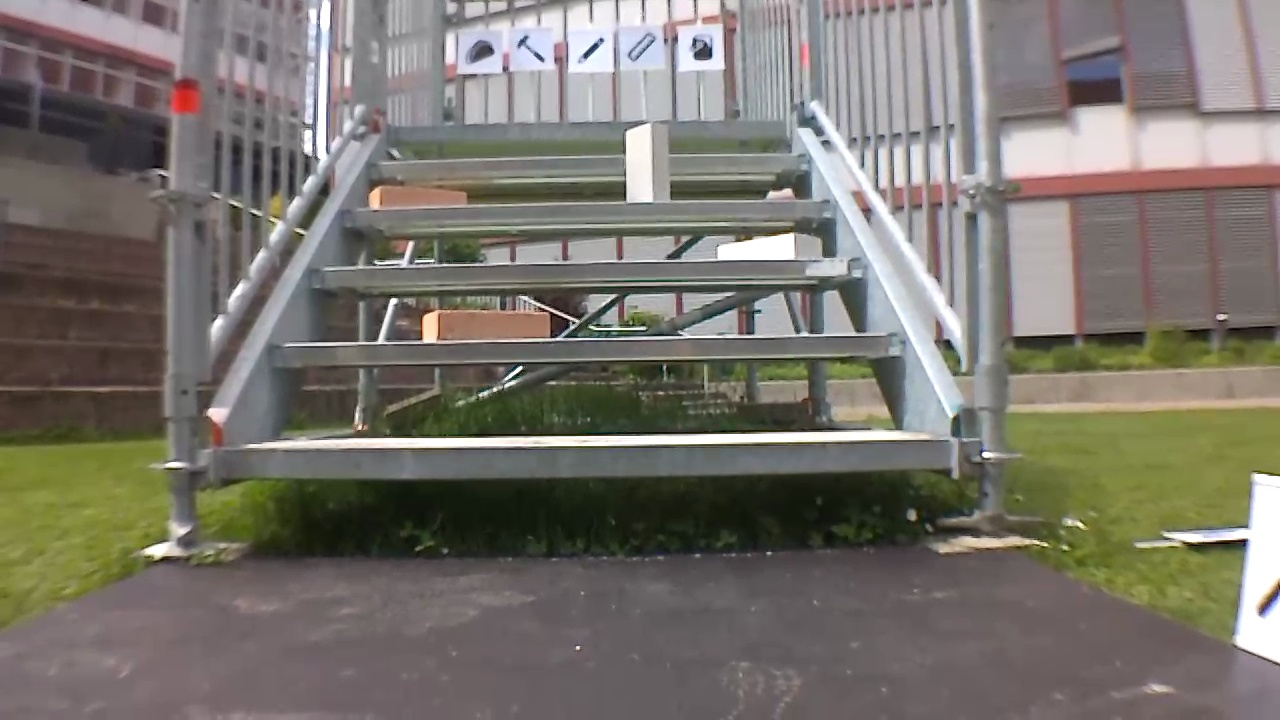brick: (421, 311, 549, 338), (626, 121, 667, 202), (717, 234, 821, 259), (369, 186, 465, 207)
bucket: (686, 30, 719, 63)
edge: (218, 436, 953, 479), (270, 335, 902, 363), (308, 257, 869, 284), (342, 198, 837, 223), (369, 153, 807, 174), (383, 121, 791, 140)
hammer: (511, 32, 550, 66)
pencil: (570, 32, 610, 69)
ruler: (624, 29, 661, 63)
stairs: (151, 2, 1041, 551)
steps: (207, 116, 970, 499)
taco: (460, 36, 498, 69)
